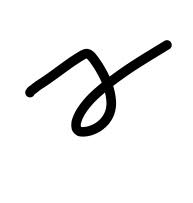t: (91, 28, 180, 95)
